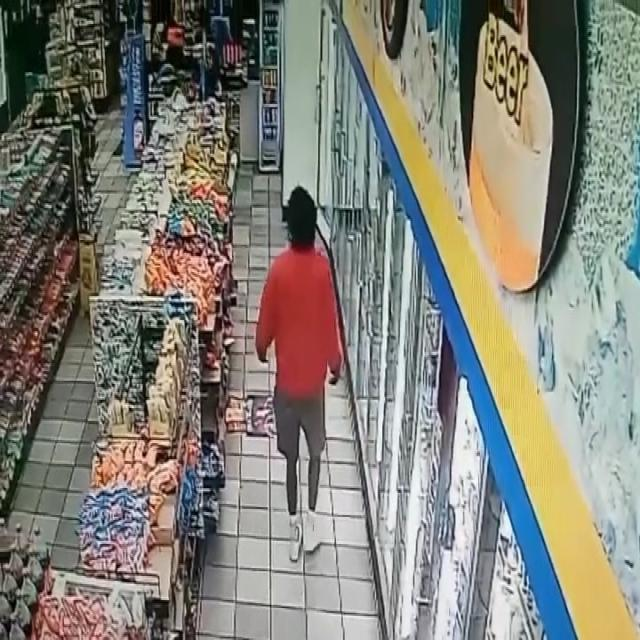normal: (252, 173, 346, 568)
